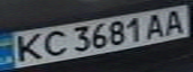1: (121, 16, 148, 43)
3: (69, 24, 93, 53)
6: (90, 20, 112, 50)
8: (106, 18, 130, 46)
A: (157, 7, 190, 35), (142, 11, 172, 39)
C: (36, 27, 72, 57)
K: (9, 30, 48, 63)
